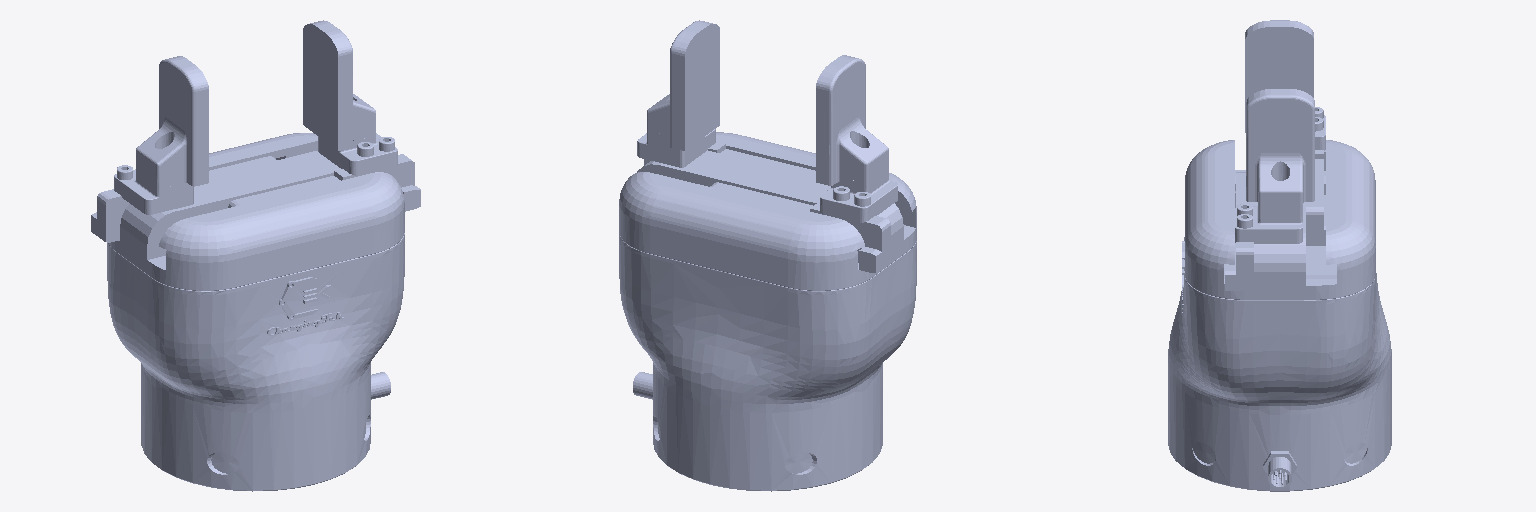
robot.urdf — crt_ctpm2f50_gripper_visualization:
<?xml version="1.0" encoding="utf-8"?>
<!-- This URDF was automatically created by SolidWorks to URDF Exporter! Originally created by Stephen Brawner (brawner@gmail.com) 
     Commit Version: 1.6.0-4-g7f85cfe  Build Version: 1.6.7995.38578
     For more information, please see http://wiki.ros.org/sw_urdf_exporter -->
<robot
  name="crt_ctpm2f50_gripper_visualization">
  <link
    name="base_link">
    <inertial>
      <origin
        xyz="9.03324601228791E-05 -2.66569501240673E-07 0.0417662191100656"
        rpy="0 0 0" />
      <mass
        value="0.275664288593793" />
      <inertia
        ixx="0.000150041307571473"
        ixy="8.13886582418885E-09"
        ixz="-2.52728542958532E-08"
        iyy="0.000194639020608314"
        iyz="1.05929831271394E-07"
        izz="0.000249169964196588" />
    </inertial>
    <visual>
      <origin
        xyz="0 0 0"
        rpy="0 0 0" />
      <geometry>
        <mesh
          filename="package://crt_ctpm2f50_gripper_visualization/meshes/base_link.STL" />
      </geometry>
      <material
        name="">
        <color
          rgba="0.792156862745098 0.819607843137255 0.933333333333333 1" />
      </material>
    </visual>
    <collision>
      <origin
        xyz="0 0 0"
        rpy="0 0 0" />
      <geometry>
        <mesh
          filename="package://crt_ctpm2f50_gripper_visualization/meshes/base_link.STL" />
      </geometry>
    </collision>
  </link>
  <link
    name="left_Link">
    <inertial>
      <origin
        xyz="-0.0442182811715535 -0.00997741507243811 0.0893909071360119"
        rpy="0 0 0" />
      <mass
        value="0.0155471794595777" />
      <inertia
        ixx="1.32910040547374E-06"
        ixy="1.85887144792904E-08"
        ixz="-7.6446792969849E-08"
        iyy="3.33193271421251E-06"
        iyz="6.98708188606315E-09"
        izz="2.77608871266481E-06" />
    </inertial>
    <visual>
      <origin
        xyz="0 0 0"
        rpy="0 0 0" />
      <geometry>
        <mesh
          filename="package://crt_ctpm2f50_gripper_visualization/meshes/left_Link.STL" />
      </geometry>
      <material
        name="">
        <color
          rgba="0.792156862745098 0.819607843137255 0.933333333333333 1" />
      </material>
    </visual>
    <collision>
      <origin
        xyz="0 0 0"
        rpy="0 0 0" />
      <geometry>
        <mesh
          filename="package://crt_ctpm2f50_gripper_visualization/meshes/left_Link.STL" />
      </geometry>
    </collision>
  </link>
  <joint
    name="left_gripper"
    type="prismatic">
    <origin
      xyz="0.017015 0.014787 0.015051"
      rpy="0 0 0" />
    <parent
      link="base_link" />
    <child
      link="left_Link" />
    <axis
      xyz="-1 0 0" />
    <limit
      lower="0"
      upper="0"
      effort="0"
      velocity="0" />
  </joint>
  <link
    name="right_Link">
    <inertial>
      <origin
        xyz="-0.0427032028027905 -0.00997741507243817 0.0893909071360119"
        rpy="0 0 0" />
      <mass
        value="0.0155471794595777" />
      <inertia
        ixx="1.32910040547374E-06"
        ixy="1.85887144792903E-08"
        ixz="-7.64467929698491E-08"
        iyy="3.33193271421251E-06"
        iyz="6.98708188606305E-09"
        izz="2.77608871266481E-06" />
    </inertial>
    <visual>
      <origin
        xyz="0 0 0"
        rpy="0 0 0" />
      <geometry>
        <mesh
          filename="package://crt_ctpm2f50_gripper_visualization/meshes/right_Link.STL" />
      </geometry>
      <material
        name="">
        <color
          rgba="0.792156862745098 0.819607843137255 0.933333333333333 1" />
      </material>
    </visual>
    <collision>
      <origin
        xyz="0 0 0"
        rpy="0 0 0" />
      <geometry>
        <mesh
          filename="package://crt_ctpm2f50_gripper_visualization/meshes/right_Link.STL" />
      </geometry>
    </collision>
  </link>
  <joint
    name="right_gripper"
    type="prismatic">
    <origin
      xyz="-0.0155 -0.014687 0.015051"
      rpy="0 0 3.1416" />
    <parent
      link="base_link" />
    <child
      link="right_Link" />
    <axis
      xyz="1 0 0" />
    <limit
      lower="0"
      upper="0.0245"
      effort="0"
      velocity="0" />
  </joint>
</robot>

--- Facts derived from the render (not from the file) ---
3 views of the same robot in one strip: view 1: azimuth 30°, elevation 25°; view 2: azimuth 150°, elevation 25°; view 3: azimuth 270°, elevation 25° (orthographic).
Model crt_ctpm2f50_gripper_visualization with 3 links and 2 joints (2 prismatic), rooted at base_link, posed all joints at 0.
Links seen in each view (by area): view 1: base_link, left_Link, right_Link; view 2: base_link, left_Link, right_Link; view 3: base_link, right_Link, left_Link.
Link boxes in pixels (x1,y1,x2,y2): base_link: (107,133,404,491); left_Link: (91,56,276,242); right_Link: (228,20,420,211); base_link: (619,132,916,491); left_Link: (710,55,897,272); right_Link: (637,20,815,176); base_link: (1168,140,1391,491); right_Link: (1225,89,1314,290); left_Link: (1245,20,1325,245).
Size in the robot's own frame: 0.103 by 0.075 by 0.1431 metres.
Meshes: 3 distinct files referenced, 3 mesh visuals loaded (3 binary STL).
